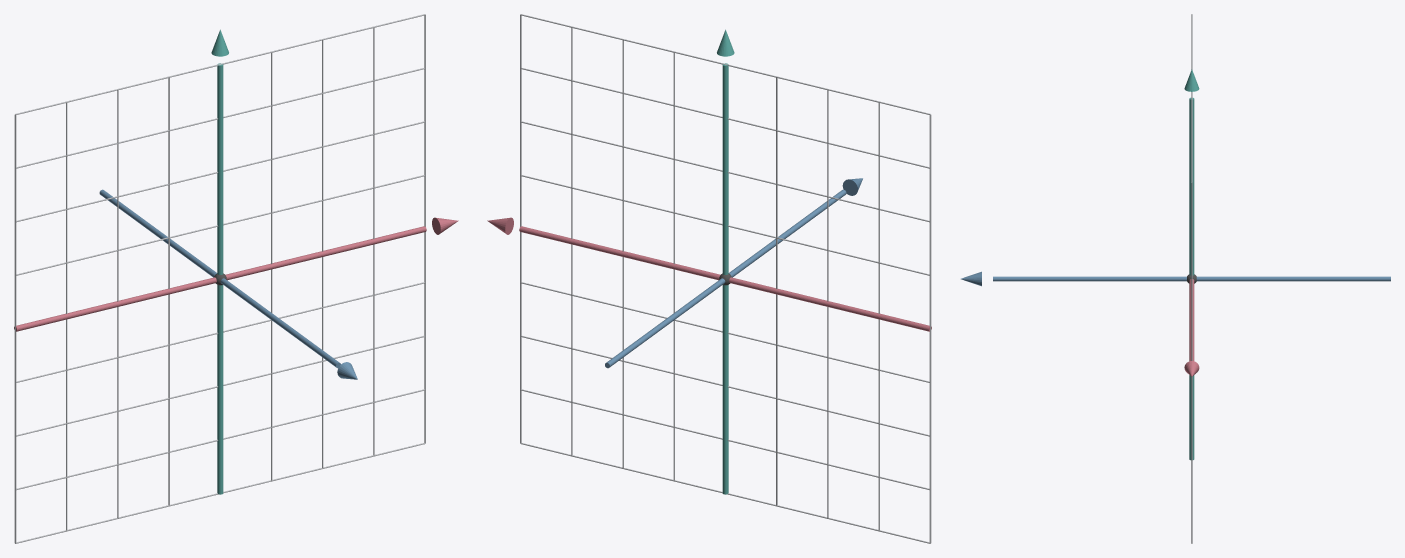
The model's file is 3d_coordinate_space_for_ppt.glb.
3 renders of one model, left to right at view 1: azimuth 30°, elevation 25°; view 2: azimuth 150°, elevation 25°; view 3: azimuth 270°, elevation 25°, orthographic. The views are drawn at different scales.
Visible parts, largest first — view 1: y_axis, x_axis, z_axis, grid_x_0, grid_y_8, grid_y_5, grid_y_0, grid_y_7, grid_y_1, grid_y_6, grid_x_1, grid_x_2 (+7 smaller); view 2: y_axis, x_axis, z_axis, grid_x_0, grid_y_8, grid_y_5, grid_y_0, grid_y_7, grid_y_1, grid_y_6, grid_x_1, grid_x_2 (+7 smaller); view 3: z_axis, y_axis, grid_x_8.
Part boxes in pixels (bbox=[...]): y_axis: bbox=[217, 63, 223, 494]; x_axis: bbox=[14, 226, 426, 331]; z_axis: bbox=[99, 189, 340, 368]; grid_x_0: bbox=[14, 114, 16, 543]; grid_y_8: bbox=[15, 14, 425, 114]; grid_y_5: bbox=[16, 175, 425, 275]; grid_y_0: bbox=[15, 443, 425, 543]; grid_y_7: bbox=[16, 67, 425, 168]; grid_y_1: bbox=[16, 389, 424, 490]; grid_y_6: bbox=[16, 121, 424, 222]; grid_x_1: bbox=[66, 102, 67, 530]; grid_x_2: bbox=[117, 90, 118, 518]; y_axis: bbox=[722, 63, 728, 494]; x_axis: bbox=[519, 226, 931, 331]; z_axis: bbox=[605, 189, 846, 368]; grid_x_0: bbox=[929, 114, 931, 543]; grid_y_8: bbox=[520, 14, 930, 114]; grid_y_5: bbox=[520, 175, 929, 275]; grid_y_0: bbox=[520, 443, 930, 543]; grid_y_7: bbox=[520, 67, 929, 168]; grid_y_1: bbox=[521, 389, 929, 490]; grid_y_6: bbox=[521, 121, 929, 222]; grid_x_1: bbox=[878, 102, 879, 530]; grid_x_2: bbox=[827, 90, 828, 518]; z_axis: bbox=[993, 276, 1390, 281]; y_axis: bbox=[1189, 97, 1194, 460]; grid_x_8: bbox=[1191, 182, 1192, 543].
Bounding box in the file's own units: 4.34 × 4.34 × 4.33.
